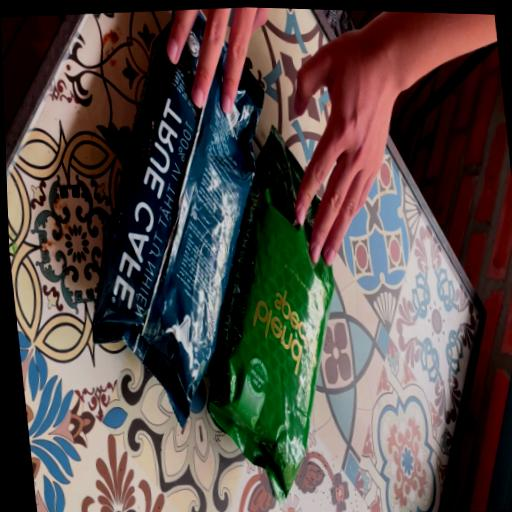cafe_hat: (92, 14, 263, 427)
cafe_xay: (207, 127, 334, 502)
